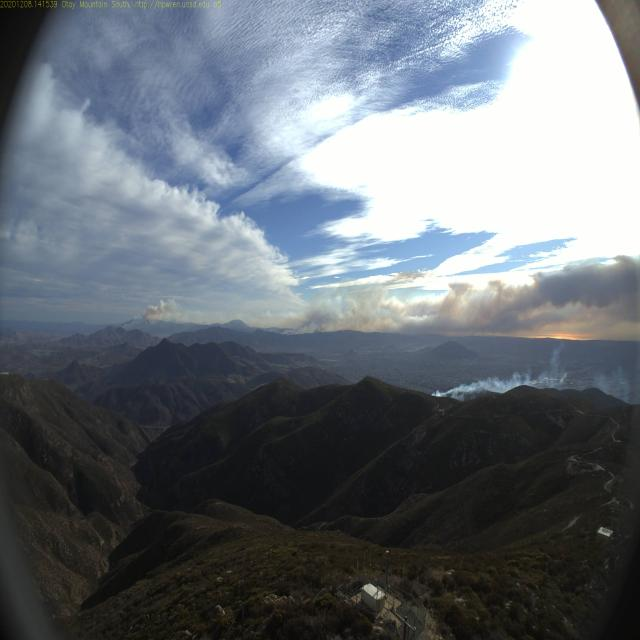smoke: (430, 368, 532, 400), (532, 338, 571, 392), (594, 361, 631, 406), (572, 360, 594, 390)
